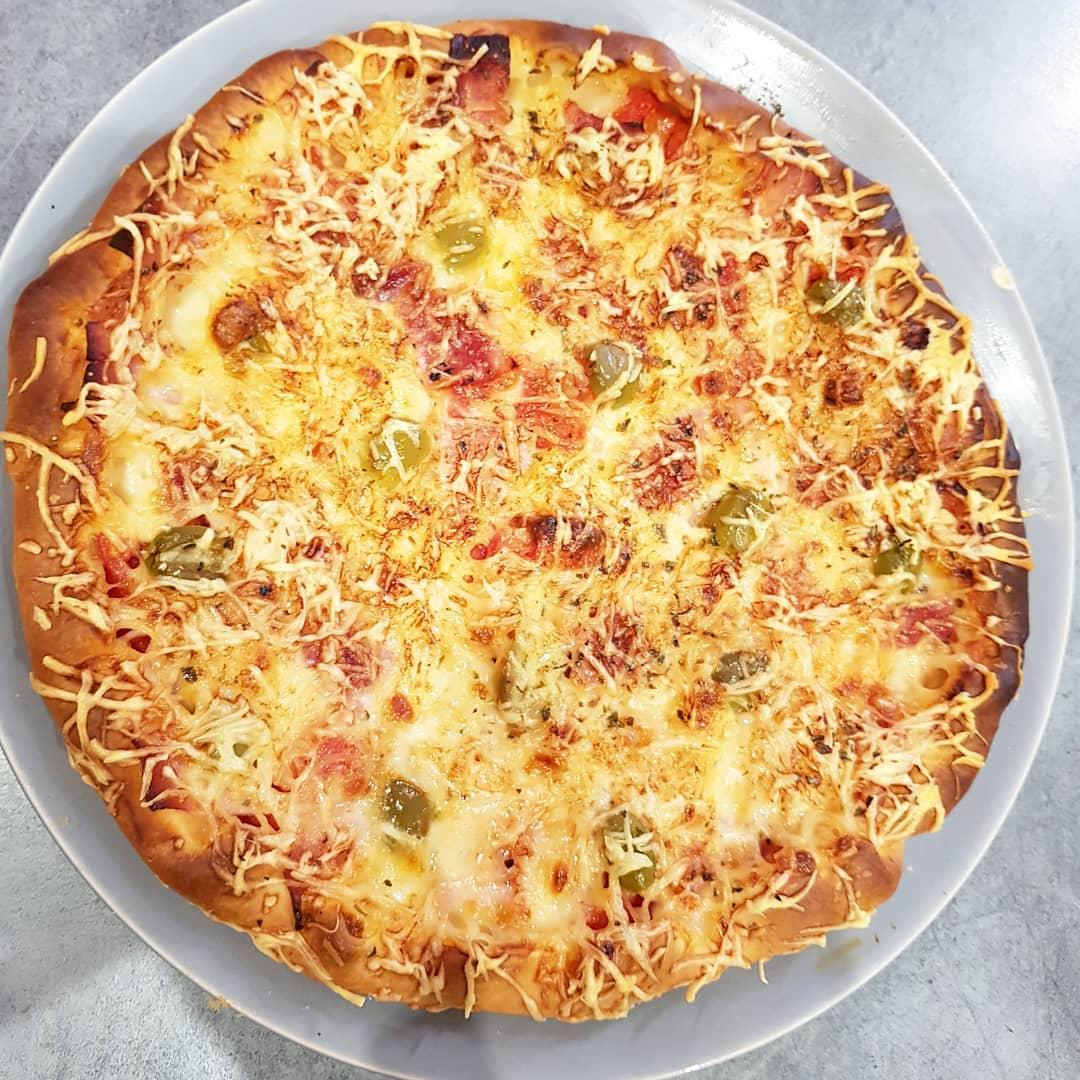Peppers: (599, 799, 662, 902), (365, 411, 428, 480), (373, 775, 432, 844), (429, 217, 497, 272), (147, 525, 217, 578), (581, 335, 642, 394), (713, 485, 765, 549), (803, 275, 865, 324), (713, 649, 765, 693), (875, 547, 920, 582)
Pizza: (17, 25, 1028, 1019)
